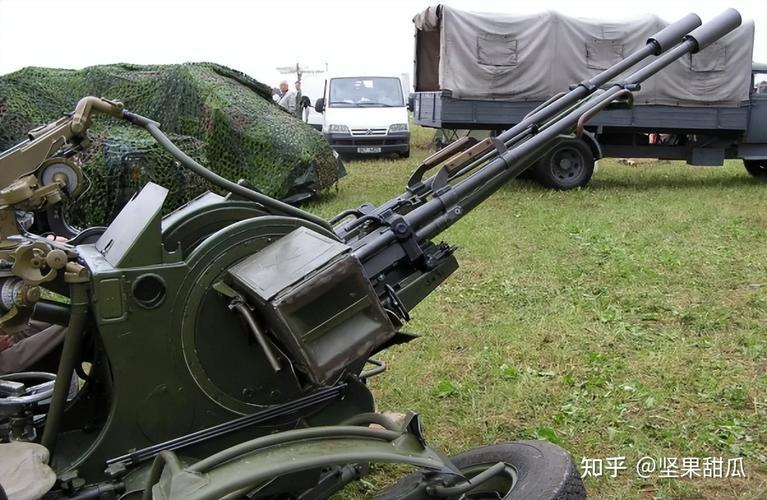MIL_SPG: (0, 9, 740, 500)
